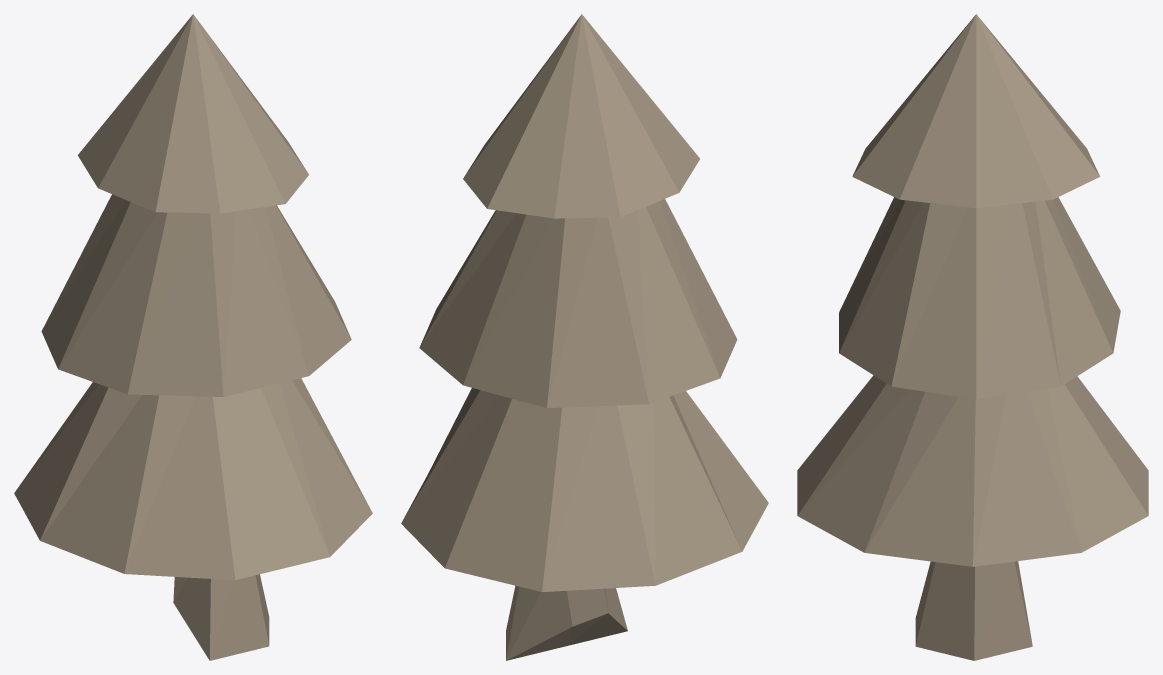
File: Basic Pine Tree.fbx
3 renders of one model, left to right at view 1: azimuth 30°, elevation 25°; view 2: azimuth 150°, elevation 25°; view 3: azimuth 270°, elevation 25°, orthographic. The views are drawn at different scales.
Visible parts, largest first — view 1: pCylinder25; view 2: pCylinder25; view 3: pCylinder25.
Boxes of the visible parts, bbox=[...] form: pCylinder25: bbox=[14, 14, 372, 660]; pCylinder25: bbox=[401, 14, 768, 660]; pCylinder25: bbox=[797, 14, 1148, 660].
Size of the model in its own units: 1.89 by 3.65 by 1.9.
